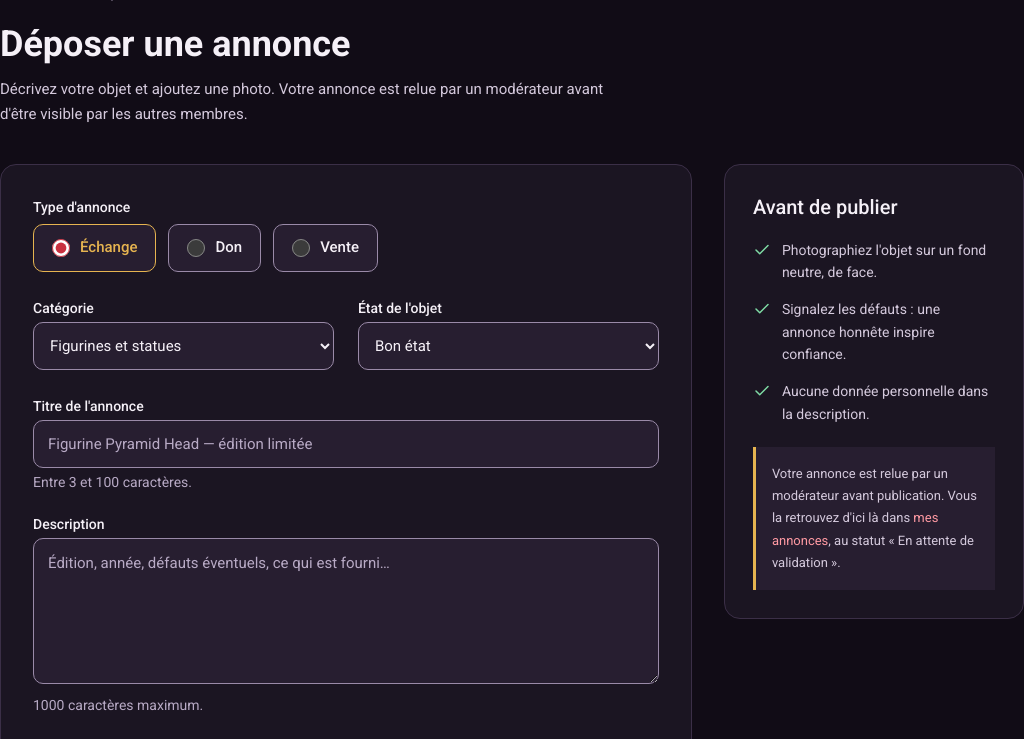
Test: ListingForm › erreurs › affiche les erreurs de validation renvoyees par l'API, conserve la saisie et ne redirige pas
Type "Édition 2019" into the text box labelled "Description" at x=346, y=610, box x1=33 y1=538 x2=659 y2=684
(page scrolled)
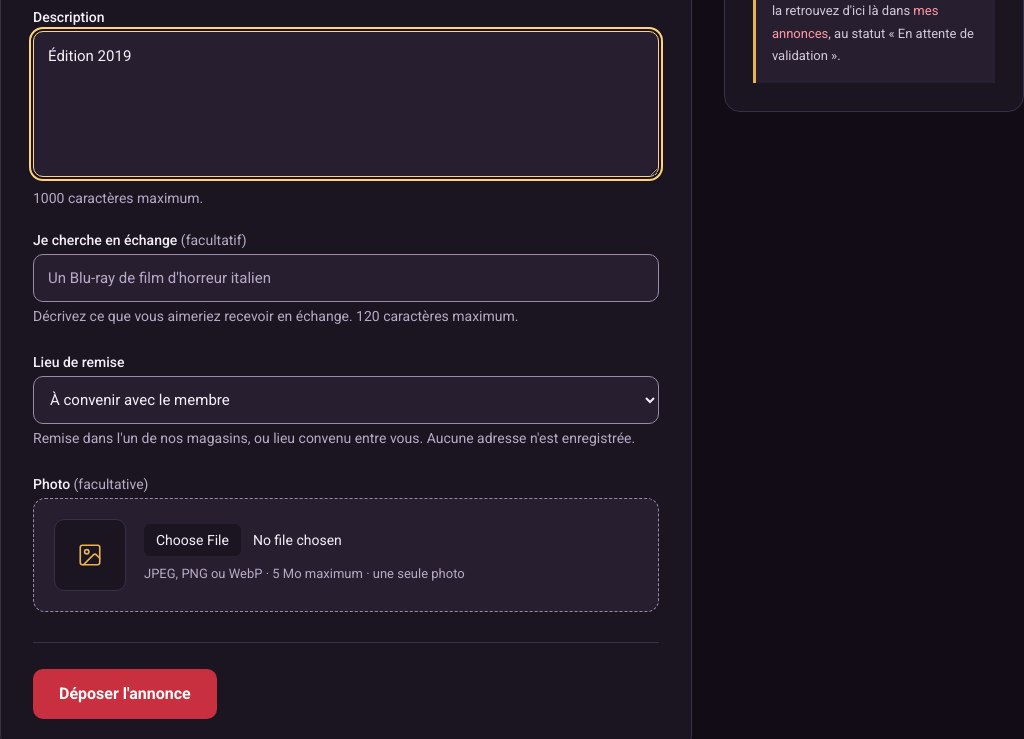
Click the button "Déposer l'annonce" at x=125, y=694, box x1=33 y1=668 x2=217 y2=718
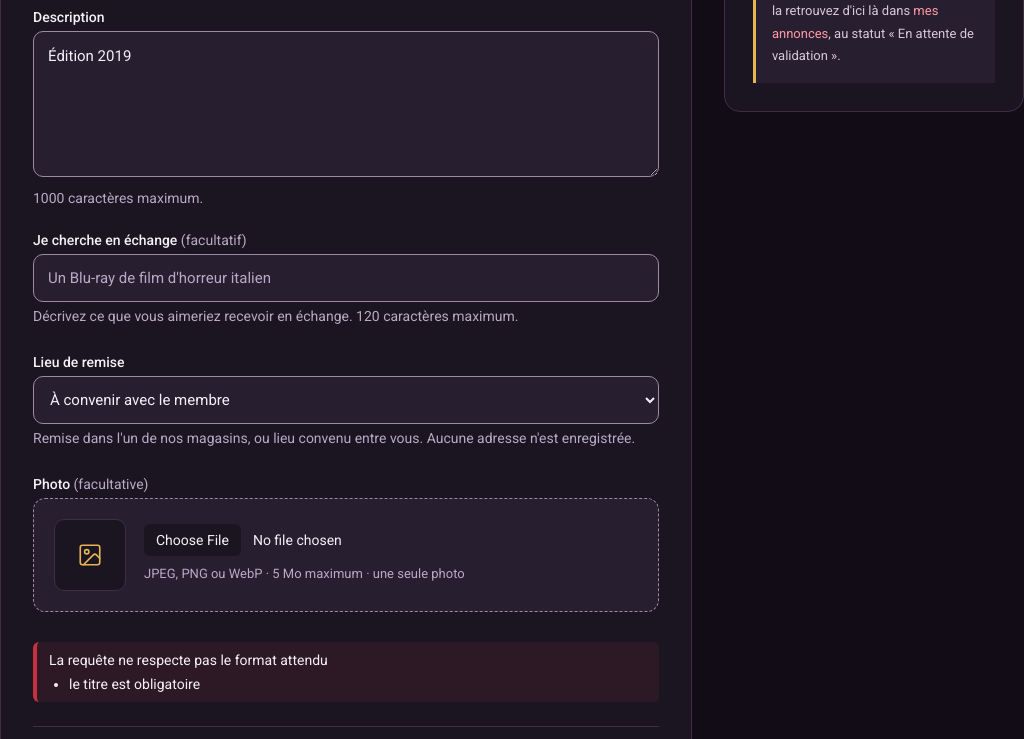
Check: the message shows "La requête ne respecte pas le format attendu", box x1=49 y1=652 x2=328 y2=668
Check: the message shows "le titre est obligatoire", box x1=69 y1=676 x2=200 y2=692
